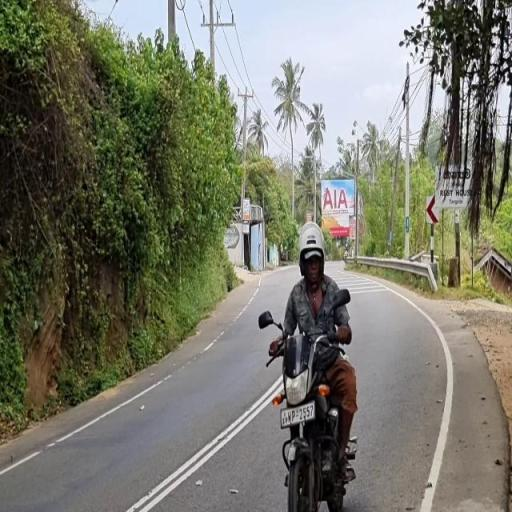double_white_line: (123, 377, 280, 512)
